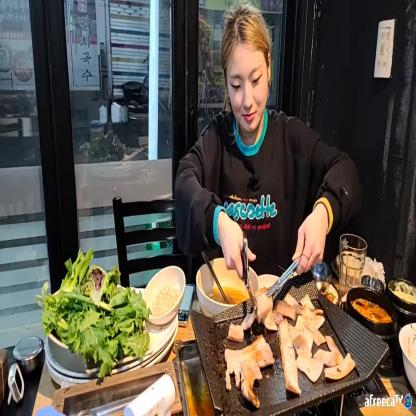streamer: (173, 0, 364, 278)
